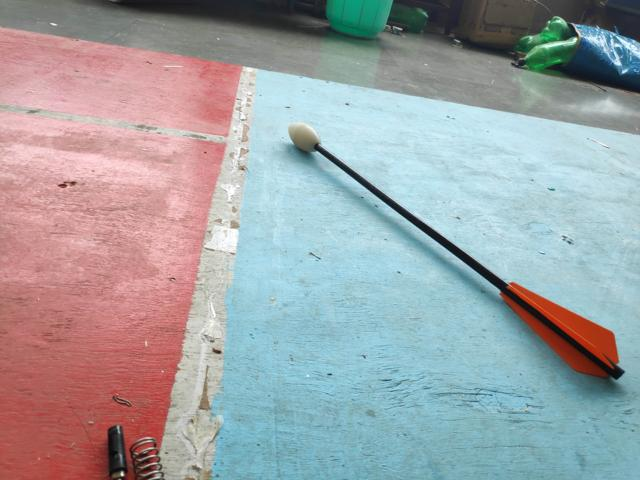Head: (284, 117, 324, 154)
Tail: (495, 275, 626, 379)
